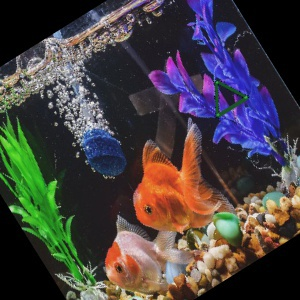triangle: (210, 77, 251, 120)
